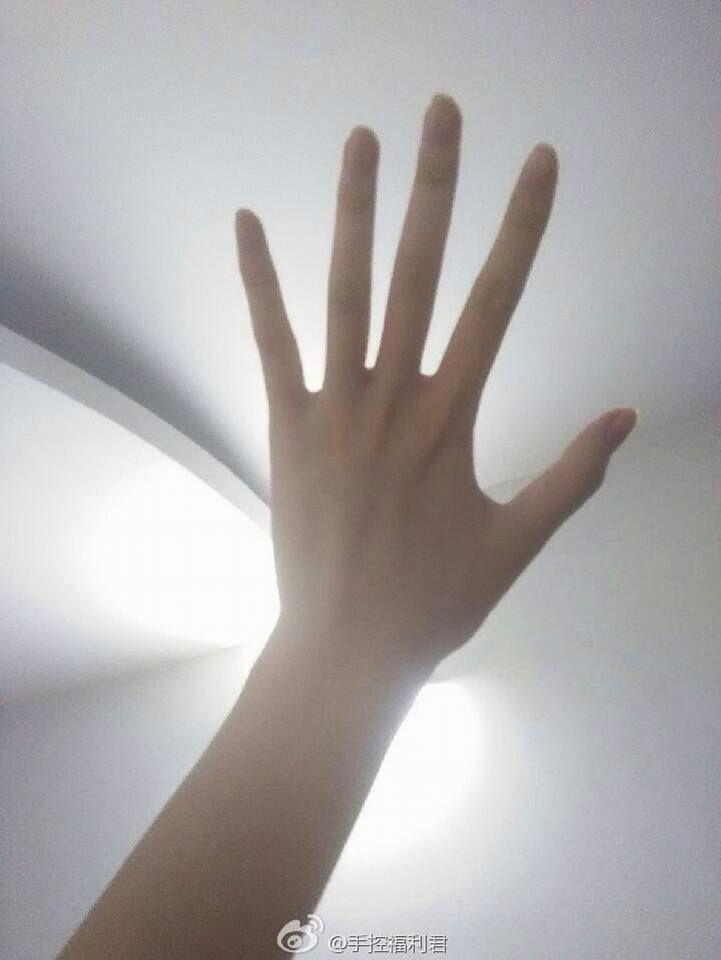hand: (232, 93, 638, 639)
